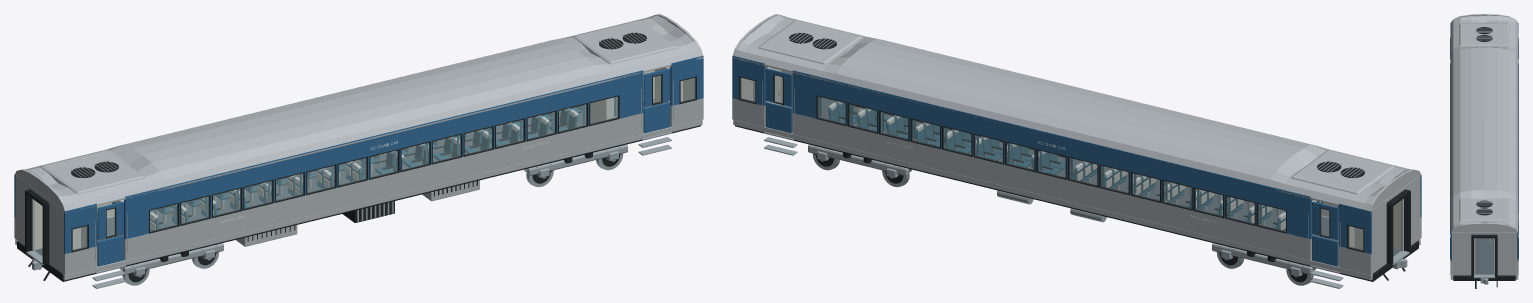
Rendered from LHB_CC.fbx.
3 views of the same model, side by side, from view 1: azimuth 30°, elevation 25°; view 2: azimuth 150°, elevation 25°; view 3: azimuth 270°, elevation 25° (orthographic). The views are drawn at different scales.
Visible parts, largest first — view 1: ROOF_arch, BODYSIDE_sill.001, BODYSIDE_header.001, UNDERFRAME_edge, INTERIOR_floor, AC_ROOF_end_package.001, AC_ROOF_end_package, UNDERFRAME_main, END_wall, END_wall.001, BOGIE_sideframe_FRONT, BODYSIDE_sill.002 (+28 smaller); view 2: ROOF_arch, BODYSIDE_sill.004, BODYSIDE_header.004, UNDERFRAME_edge.001, AC_ROOF_end_package.001, AC_ROOF_end_package, INTERIOR_floor, UNDERFRAME_main, END_wall.001, END_wall, BOGIE_sideframe_FRONT.001, BODYSIDE_sill.005 (+24 smaller); view 3: ROOF_arch, AC_ROOF_end_package.001, AC_ROOF_end_package, END_wall.002, END_wall.003, INTERIOR_floor, ROOF_endcap.001, UNDERFRAME_main, BODYSIDE_header.001, BODYSIDE_header.004, ROOF_endcap, GANGWAY_bellows.014 (+7 smaller).
Boxes of the visible parts, x1,y1,x2,y2 form: ROOF_arch: [14, 15, 703, 213]; BODYSIDE_sill.001: [124, 113, 643, 260]; BODYSIDE_header.001: [124, 70, 643, 216]; UNDERFRAME_edge: [63, 119, 702, 280]; INTERIOR_floor: [35, 99, 654, 265]; AC_ROOF_end_package.001: [573, 20, 677, 64]; AC_ROOF_end_package: [41, 150, 144, 194]; UNDERFRAME_main: [17, 125, 700, 281]; END_wall: [46, 198, 63, 273]; END_wall.001: [15, 175, 34, 251]; BOGIE_sideframe_FRONT: [527, 144, 627, 175]; BODYSIDE_sill.002: [670, 98, 703, 127]; ROOF_arch: [732, 15, 1421, 213]; BODYSIDE_sill.004: [792, 113, 1311, 260]; BODYSIDE_header.004: [792, 70, 1311, 216]; UNDERFRAME_edge.001: [733, 119, 1372, 280]; AC_ROOF_end_package.001: [758, 20, 862, 64]; AC_ROOF_end_package: [1291, 150, 1394, 194]; INTERIOR_floor: [781, 97, 1400, 265]; UNDERFRAME_main: [735, 125, 1418, 281]; END_wall.001: [1372, 198, 1389, 273]; END_wall: [1401, 175, 1420, 251]; BOGIE_sideframe_FRONT.001: [808, 144, 908, 175]; BODYSIDE_sill.005: [732, 98, 765, 127]; ROOF_arch: [1450, 14, 1518, 233]; AC_ROOF_end_package.001: [1459, 198, 1509, 222]; AC_ROOF_end_package: [1459, 23, 1509, 47]; END_wall.002: [1452, 232, 1475, 275]; END_wall.003: [1493, 232, 1516, 275]; INTERIOR_floor: [1475, 238, 1493, 274]; ROOF_endcap.001: [1452, 223, 1517, 232]; UNDERFRAME_main: [1453, 275, 1515, 280]; BODYSIDE_header.001: [1450, 43, 1450, 212]; BODYSIDE_header.004: [1518, 43, 1518, 212]; ROOF_endcap: [1450, 14, 1516, 23]; GANGWAY_bellows.014: [1471, 236, 1473, 276].
Size of the model in its own units: 326 by 2416 by 406.
